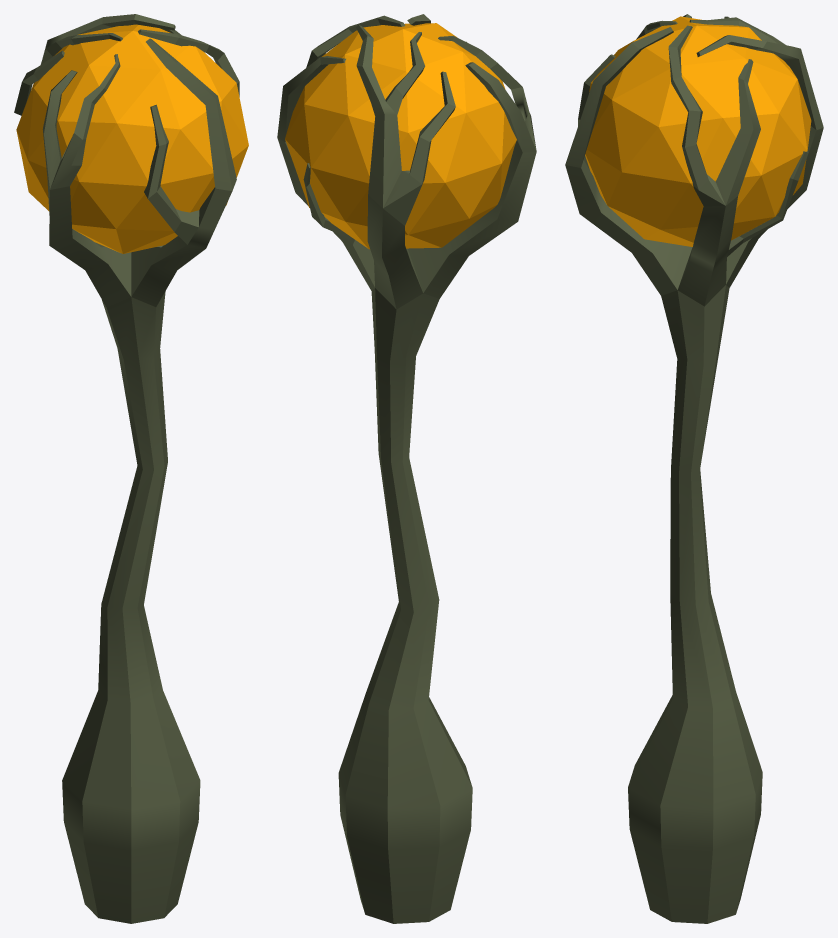
Rendered from SM_Env_GlowingOrb_04.glb.
The picture shows the model from 3 angles, left to right: view 1: azimuth 30°, elevation 25°; view 2: azimuth 150°, elevation 25°; view 3: azimuth 270°, elevation 25°; orthographic projection.
Visible parts, largest first — view 1: SM_Env_GlowingOrb_04; view 2: SM_Env_GlowingOrb_04; view 3: SM_Env_GlowingOrb_04.
Part boxes in pixels (left/top/right/bottom): SM_Env_GlowingOrb_04: left=14, top=14, right=248, bottom=923; SM_Env_GlowingOrb_04: left=277, top=14, right=536, bottom=923; SM_Env_GlowingOrb_04: left=565, top=14, right=823, bottom=923.
Bounding box in the file's own units: 0.0036 × 0.0137 × 0.00365.
Materials: 1 (1 with a texture image).
